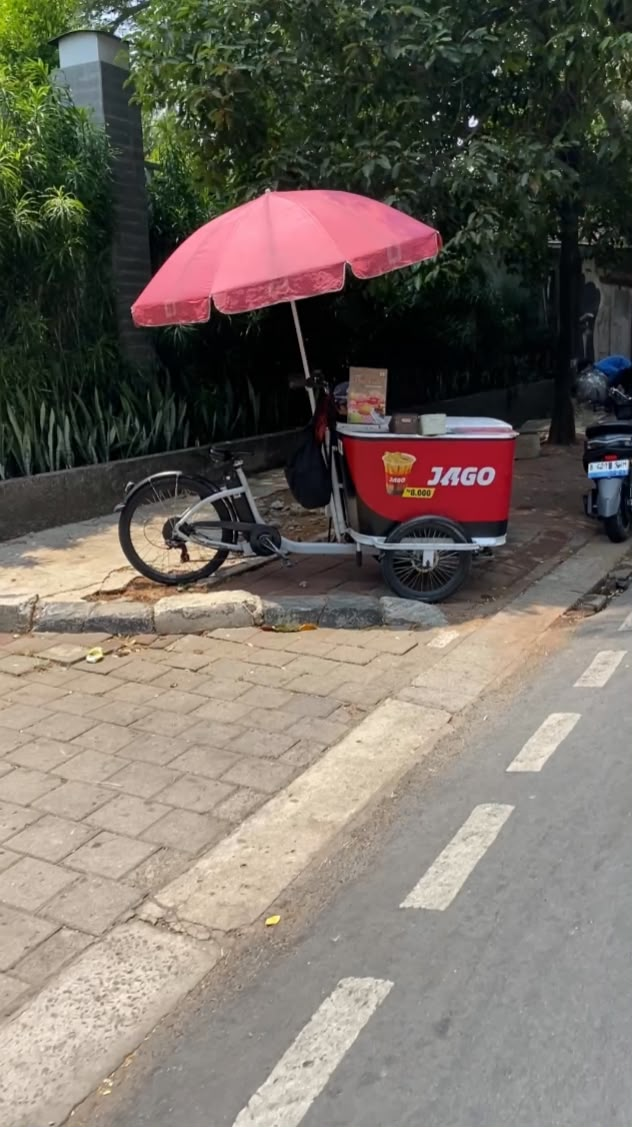gerobak: (119, 191, 517, 605)
